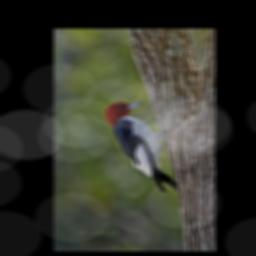Woodpecker: (103, 98, 183, 195)
